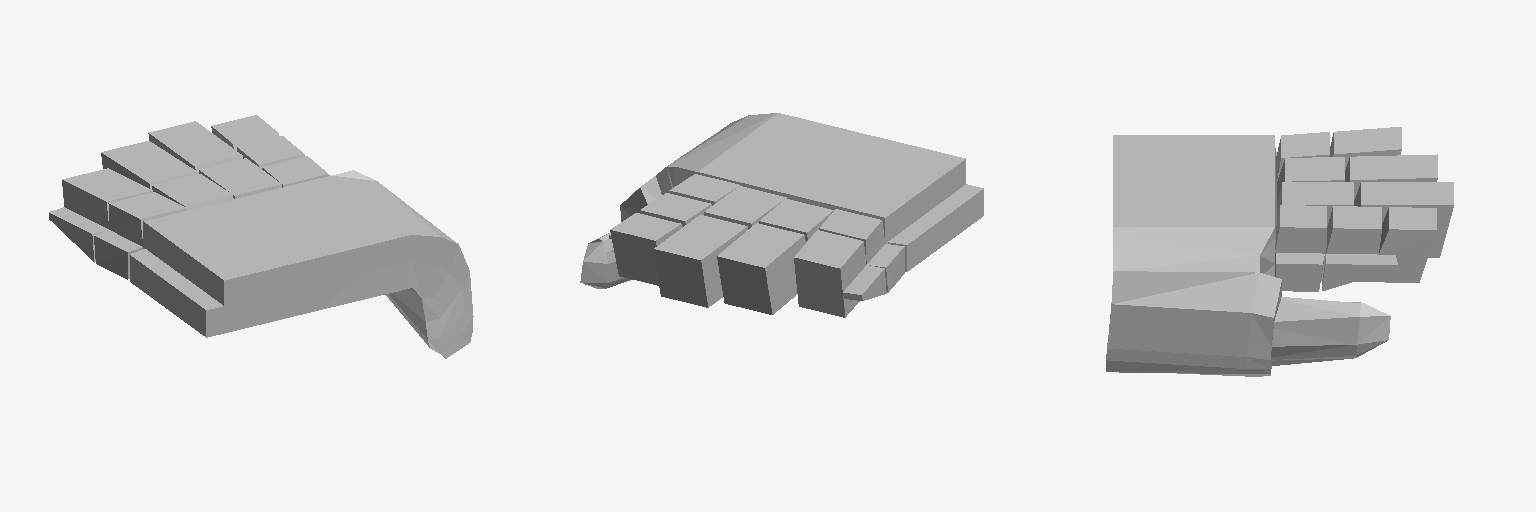
File: LeftGlove.obj
The picture shows the model from 3 angles: view 1: azimuth 30°, elevation 25°; view 2: azimuth 150°, elevation 25°; view 3: azimuth 270°, elevation 25°; orthographic projection.
Visible parts, largest first — view 1: pPlane1; view 2: pPlane1; view 3: pPlane1.
Part boxes in pixels (left/top/right/bottom): pPlane1: left=49, top=115, right=473, bottom=358; pPlane1: left=580, top=113, right=983, bottom=317; pPlane1: left=1106, top=127, right=1453, bottom=376.
Size of the model in its own units: 2.54 by 1.03 by 2.54.